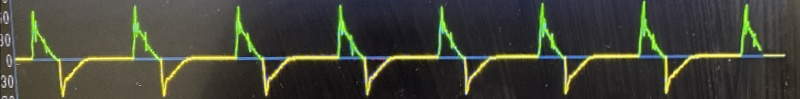hydrop_flow: (18, 1, 772, 99)
